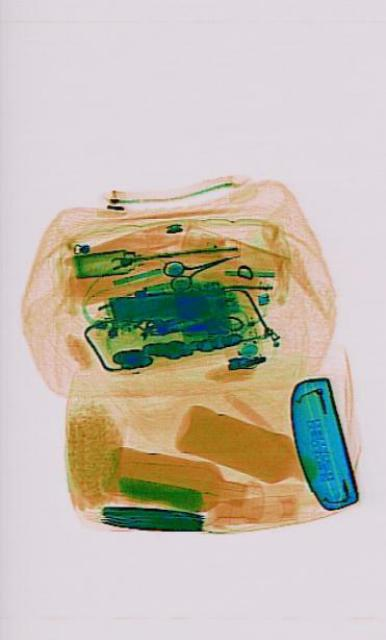Scissors: (160, 232, 240, 296)
